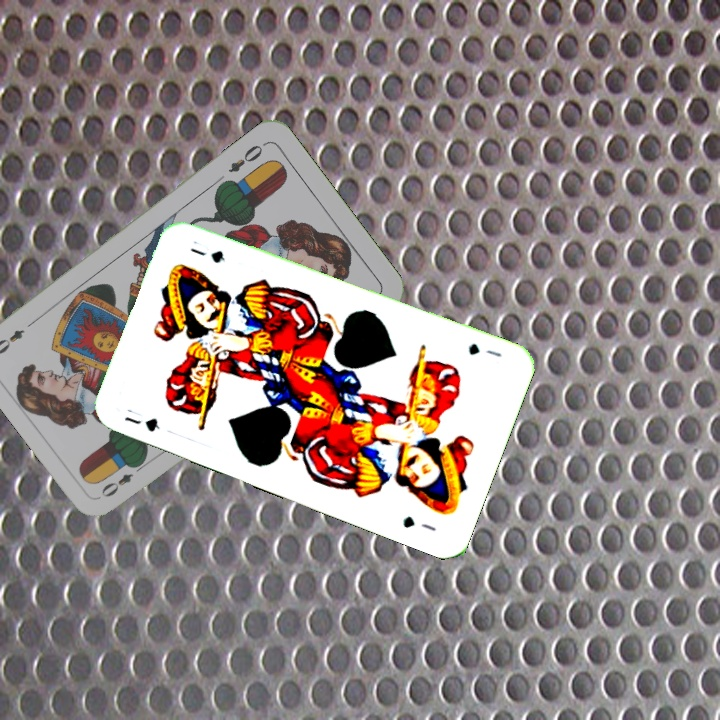EO: (97, 458, 148, 501), (224, 138, 269, 175)
GU: (120, 404, 163, 435), (464, 339, 504, 360)
